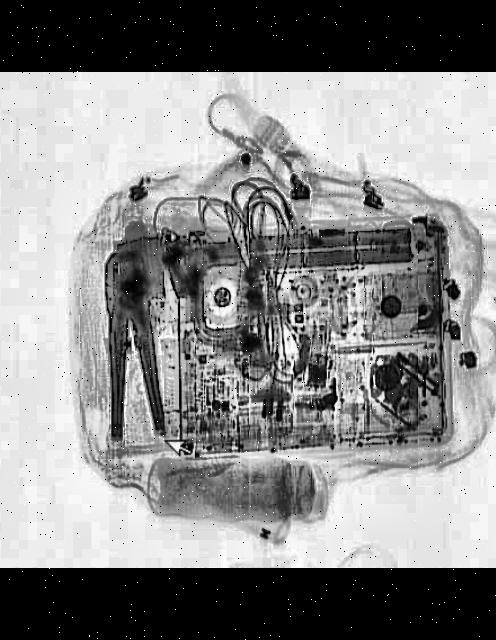Pliers: (89, 248, 162, 438)
